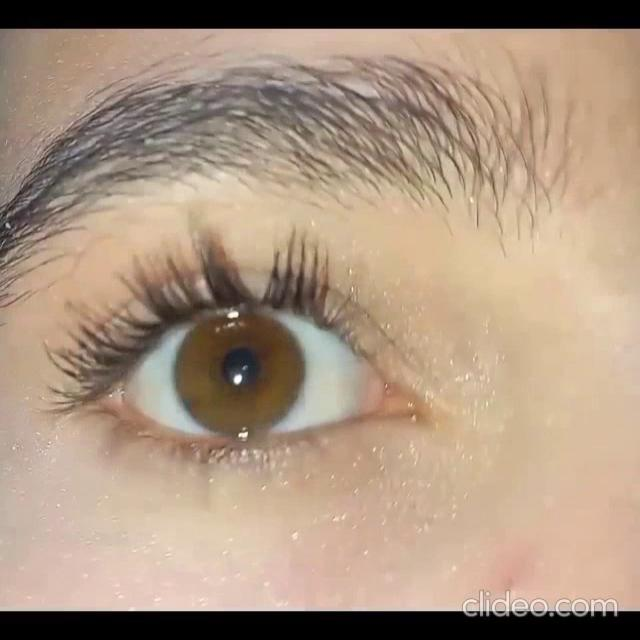iris: (175, 311, 305, 435)
pupille: (218, 349, 261, 393)
